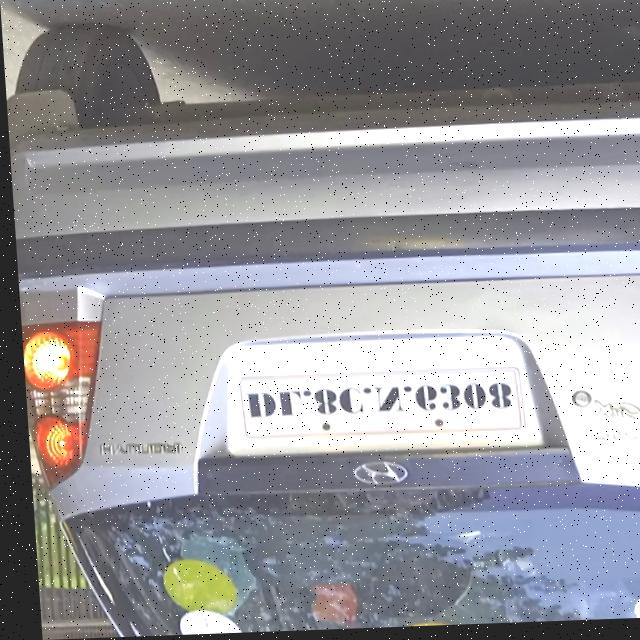plate: (230, 370, 521, 447)
